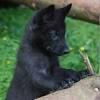Lobo: (10, 1, 82, 90)
